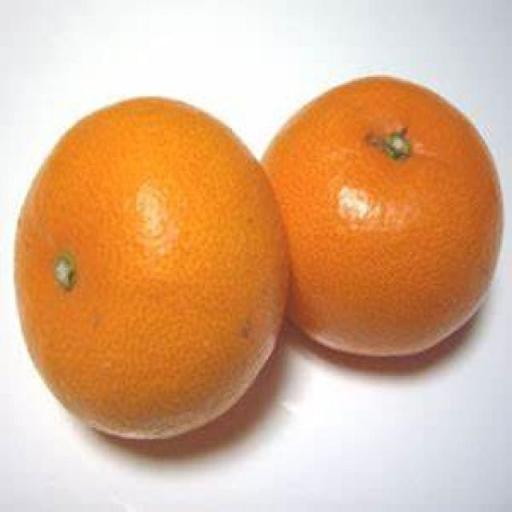fruit: (16, 99, 284, 437), (263, 77, 501, 354)
